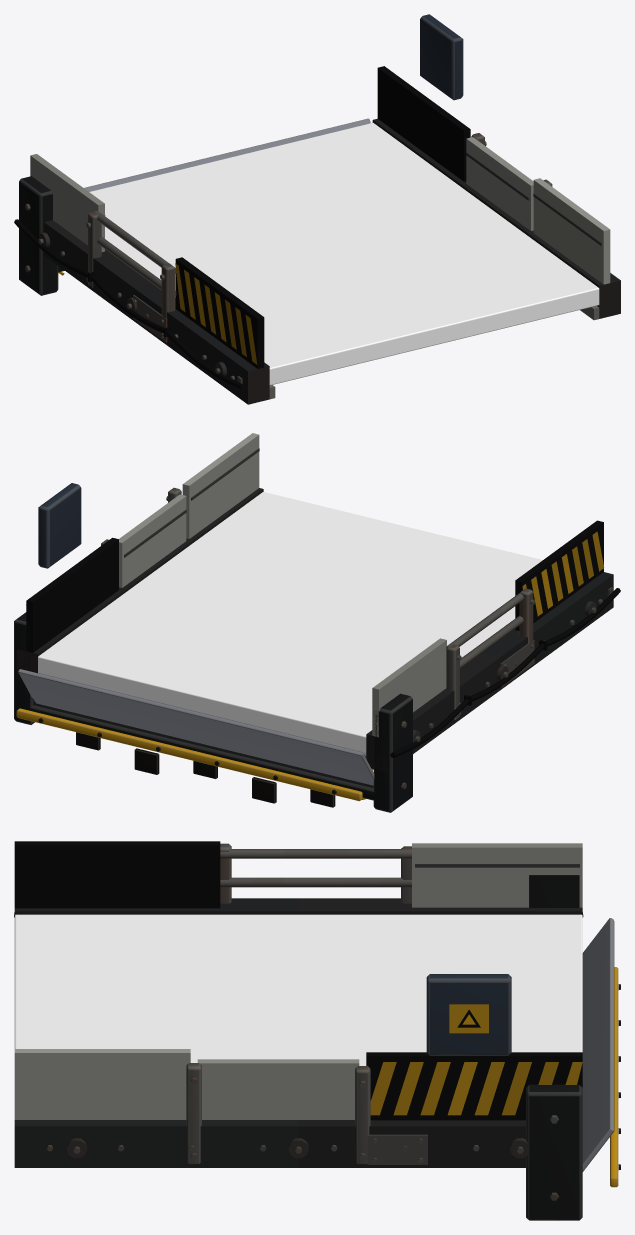
The model's file is belt_scraper.glb.
3 renders of one model, top to bottom at view 1: azimuth 30°, elevation 25°; view 2: azimuth 150°, elevation 25°; view 3: azimuth 270°, elevation 25°, orthographic. The views are drawn at different scales.
Visible parts, largest first — view 1: Belt, Frame, Blade; view 2: Belt, Frame, Blade; view 3: Frame, Belt, Blade.
Part boxes in pixels (x1=…): Belt: x1=89, y1=123, x2=599, y2=385; Frame: x1=14, y1=14, x2=620, y2=404; Blade: x1=84, y1=118, x2=370, y2=191; Belt: x1=38, y1=492, x2=542, y2=753; Frame: x1=14, y1=433, x2=620, y2=812; Blade: x1=16, y1=669, x2=374, y2=801; Frame: x1=14, y1=841, x2=583, y2=1220; Belt: x1=14, y1=914, x2=582, y2=1065; Blade: x1=582, y1=918, x2=620, y2=1187.
Bounding box in the file's own units: 1.99 × 1.05 × 2.14.
